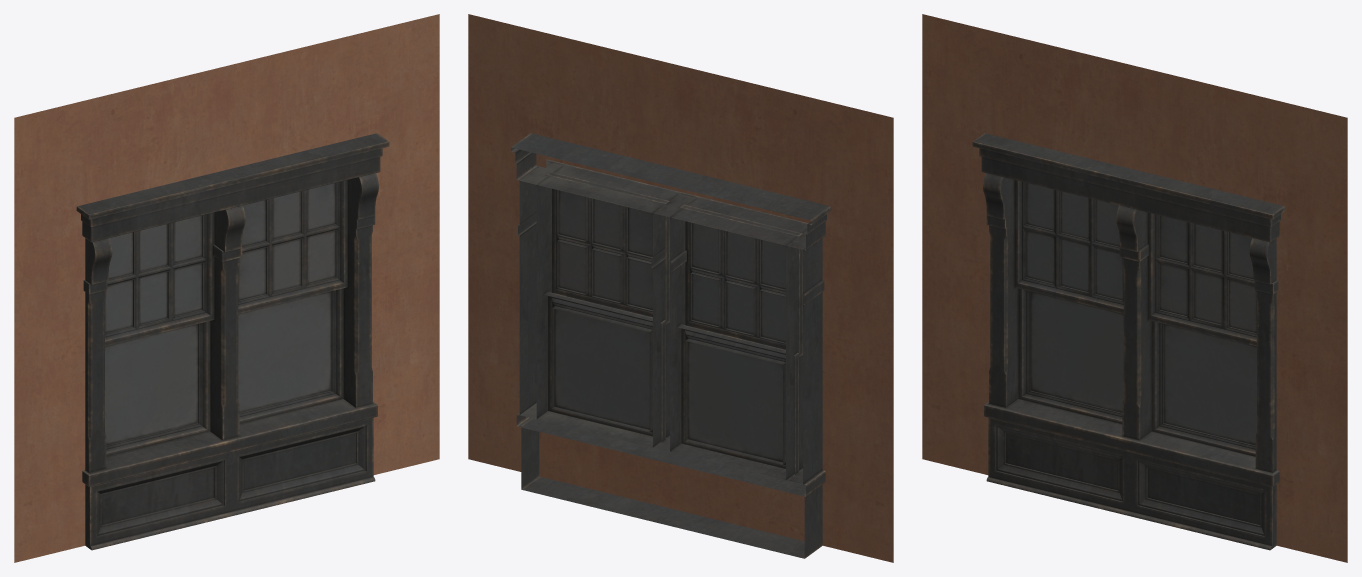
File: facade-large.glb
3 renders of one model, left to right at view 1: azimuth 30°, elevation 25°; view 2: azimuth 150°, elevation 25°; view 3: azimuth 330°, elevation 25°, orthographic.
Visible parts, largest first — view 1: window_centered_large_01, wall_window_centered_large_01; view 2: wall_window_centered_large_01, window_centered_large_01; view 3: window_centered_large_01, wall_window_centered_large_01.
Boxes of the visible parts, bbox=[...] form: window_centered_large_01: bbox=[76, 133, 389, 550]; wall_window_centered_large_01: bbox=[14, 14, 439, 562]; wall_window_centered_large_01: bbox=[468, 14, 893, 562]; window_centered_large_01: bbox=[511, 133, 831, 558]; window_centered_large_01: bbox=[972, 133, 1285, 550]; wall_window_centered_large_01: bbox=[922, 14, 1347, 562].
Size of the model in its own units: 3 by 3 by 0.39.
Materials: 3 (3 with a texture image).
